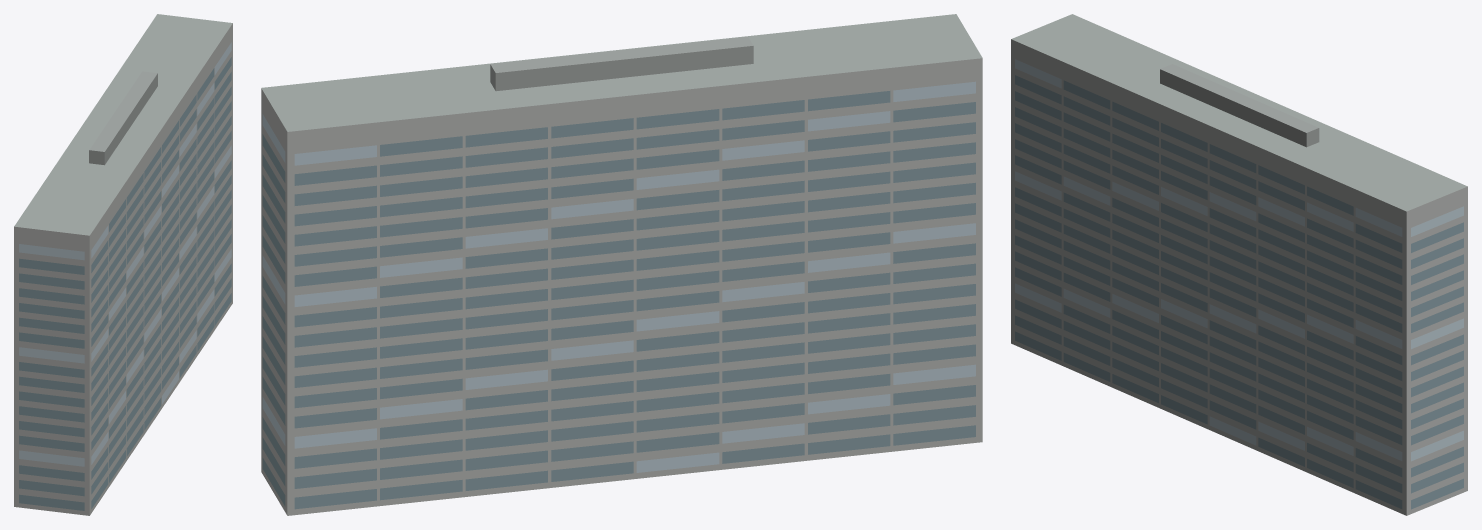
The model's file is apt-a15303401.glb.
3 views of the same model, side by side, from view 1: azimuth 30°, elevation 25°; view 2: azimuth 150°, elevation 25°; view 3: azimuth 270°, elevation 25° (orthographic). The views are drawn at different scales.
Visible parts, largest first — view 1: apt-a15303401; view 2: apt-a15303401; view 3: apt-a15303401.
Boxes of the visible parts, left/top/right/bottom form: apt-a15303401: left=14, top=14, right=232, bottom=515; apt-a15303401: left=261, top=14, right=982, bottom=515; apt-a15303401: left=1011, top=14, right=1467, bottom=515.
Size of the model in its own units: 67.8 by 51 by 66.25.
